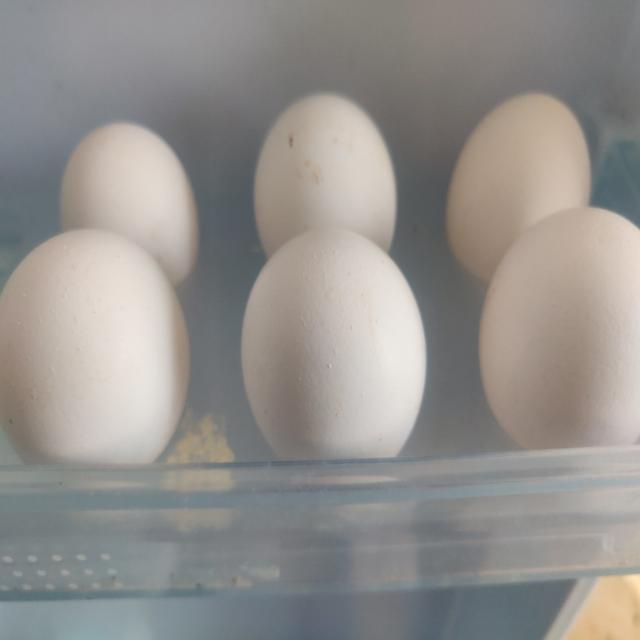Egg: (0, 229, 189, 464), (241, 228, 426, 460), (480, 207, 640, 449), (447, 92, 592, 280), (254, 92, 397, 256), (59, 122, 198, 285)
